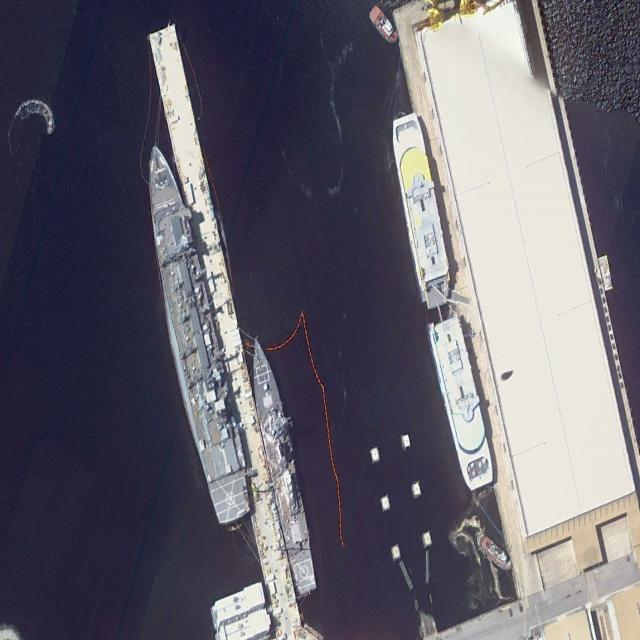Commander: (129, 133, 257, 530)
Destroyer: (242, 333, 325, 601)
